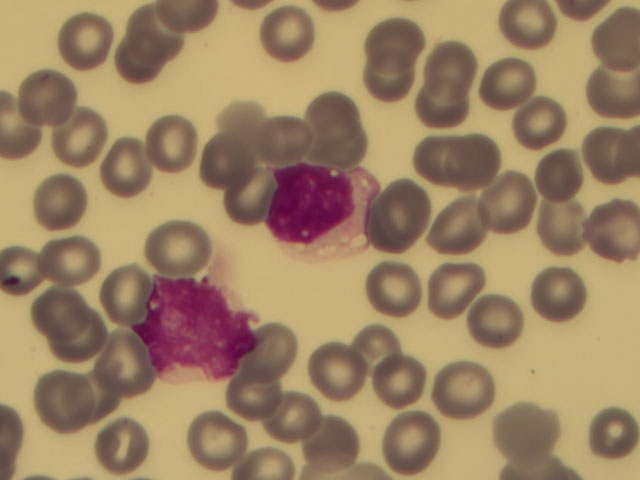RBC: (54, 8, 118, 72), (19, 66, 83, 130), (49, 108, 113, 172), (27, 167, 91, 231), (93, 139, 157, 203), (124, 115, 188, 179), (37, 227, 101, 291), (32, 277, 96, 341), (50, 306, 114, 370), (97, 333, 161, 397), (32, 378, 96, 442), (96, 411, 160, 475), (176, 409, 240, 473), (222, 359, 286, 423), (247, 315, 311, 379), (261, 385, 325, 449), (298, 416, 362, 480), (306, 340, 370, 404), (343, 313, 407, 377), (374, 349, 438, 413), (375, 408, 439, 472), (434, 356, 498, 420), (489, 394, 553, 458), (575, 399, 639, 463), (463, 289, 527, 353), (423, 261, 487, 325), (372, 259, 436, 323), (372, 181, 436, 245), (218, 167, 282, 231), (148, 216, 212, 280), (194, 129, 258, 193), (251, 107, 315, 171), (296, 83, 360, 147), (312, 109, 376, 173), (260, 10, 324, 74), (126, 3, 190, 67), (110, 32, 174, 96), (361, 8, 425, 72), (356, 45, 420, 109), (421, 29, 485, 93), (405, 76, 469, 140), (470, 49, 534, 113), (503, 91, 567, 155), (448, 127, 512, 191), (402, 124, 466, 188), (427, 191, 491, 255), (483, 172, 547, 236), (529, 137, 593, 201), (523, 189, 587, 253), (576, 198, 640, 262), (529, 264, 593, 328), (576, 59, 640, 123), (1, 243, 64, 307), (587, 8, 640, 68), (493, 1, 553, 48)
WBC: (142, 274, 260, 382), (269, 161, 382, 265)
